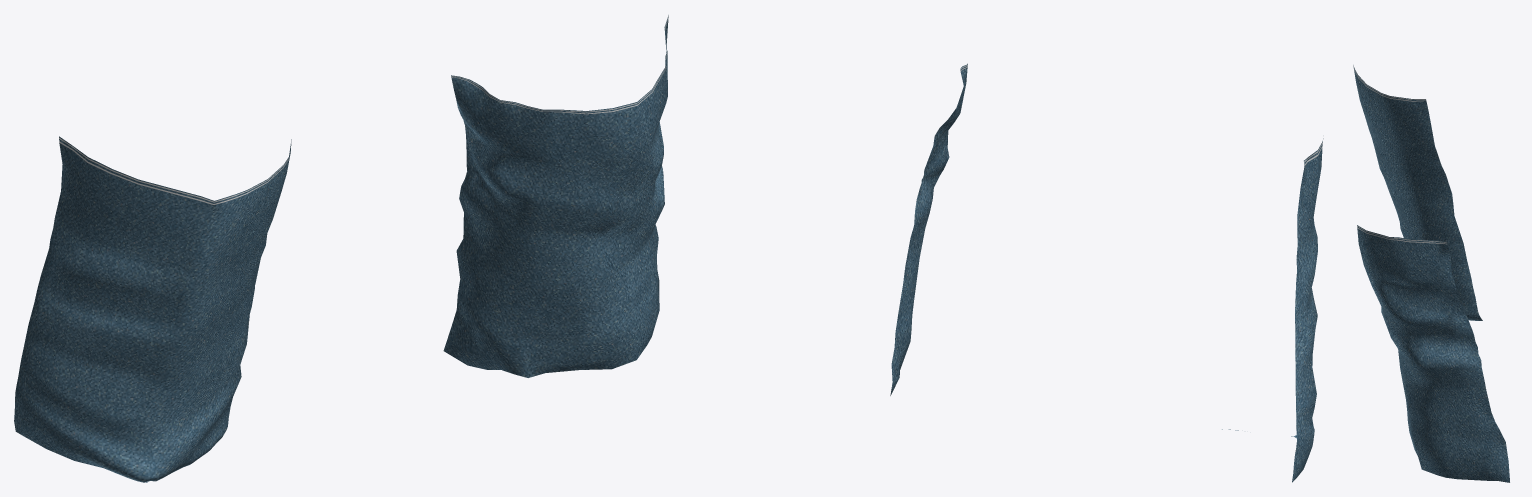
File: Pants_Knee.glb
The picture shows the model from 3 angles, left to right: view 1: azimuth 30°, elevation 25°; view 2: azimuth 150°, elevation 25°; view 3: azimuth 270°, elevation 25°; orthographic projection. The views are drawn at different scales.
Parts seen in each view (by area): view 1: Pants_Knee.001, Pants_Rope_Knee.001; view 2: Pants_Knee.001; view 3: Pants_Knee.001, Pants_Rope_Knee.001.
Boxes of the visible parts, x1,y1,x2,y2 form: Pants_Knee.001: (14,15,668,482); Pants_Rope_Knee.001: (59,15,668,204); Pants_Knee.001: (890,63,1323,482); Pants_Knee.001: (1353,65,1509,482); Pants_Rope_Knee.001: (1353,66,1446,244).
Bounding box in the file's own units: 0.8068 × 0.4174 × 0.2411.
Materials: 2 (2 with a texture image).
